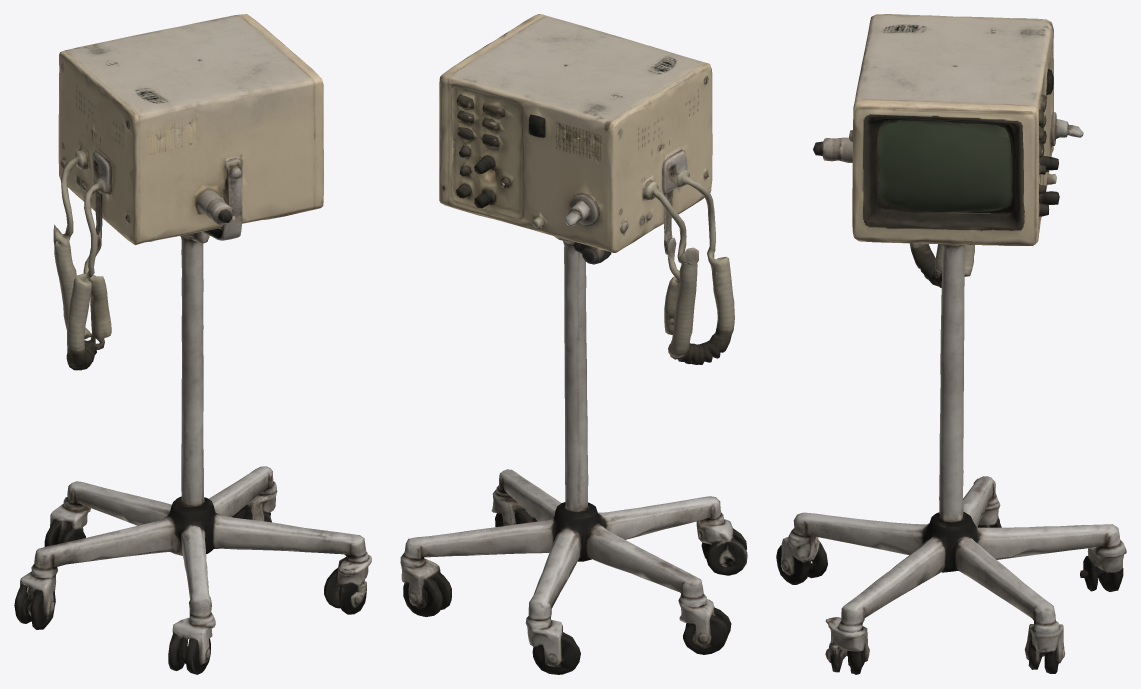
The model's file is PatientMonitor.fbx.
The picture shows the model from 3 angles, left to right: view 1: azimuth 30°, elevation 25°; view 2: azimuth 150°, elevation 25°; view 3: azimuth 270°, elevation 25°; orthographic projection. The views are drawn at different scales.
Parts seen in each view (by area): view 1: PatientMonitor; view 2: PatientMonitor; view 3: PatientMonitor.
Part boxes in pixels (left/top/right/bottom): PatientMonitor: left=14, top=14, right=371, bottom=674; PatientMonitor: left=400, top=14, right=747, bottom=674; PatientMonitor: left=776, top=14, right=1126, bottom=674.
Bounding box in the file's own units: 0.83 × 1.45 × 0.825.
Materials: 1 (1 with a texture image).
